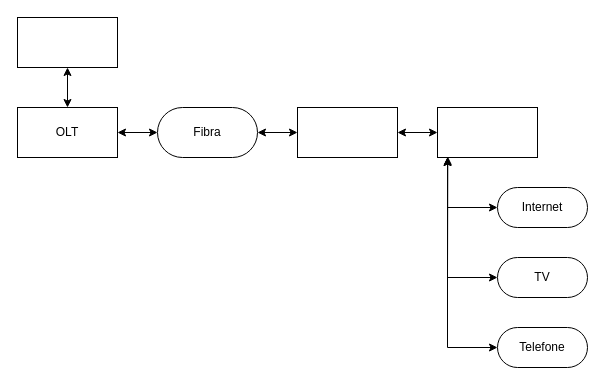
Some shapes in this 605 by 385 pixel diagram are drawn without their labels. Each missing label, with the centre of its shape:
ONT na casa do cliente: [487,132]
Operadora: [67,42]
SPLITTER: [347,132]
